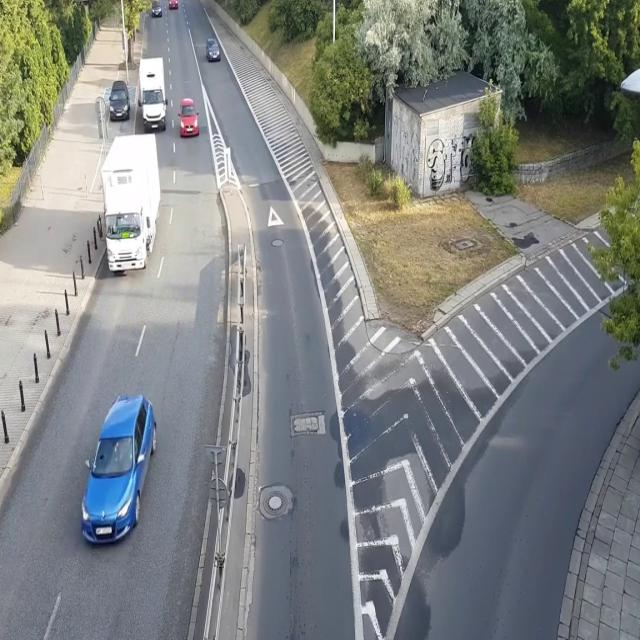car: (76, 390, 158, 550), (177, 98, 201, 140), (109, 80, 131, 122), (206, 36, 222, 64), (150, 0, 162, 18), (168, 0, 178, 10)
truck: (98, 133, 162, 274), (136, 57, 168, 133)
